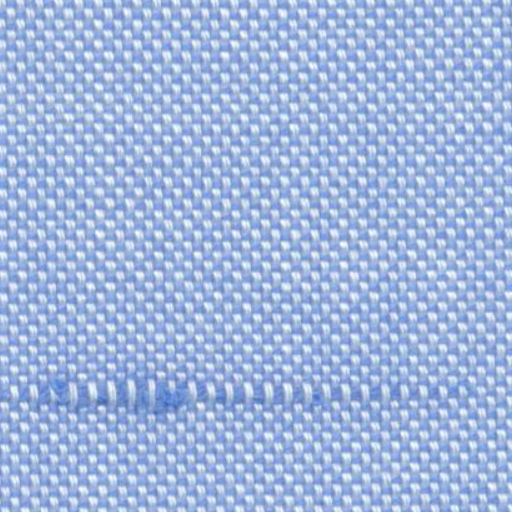DaiSha: (4, 366, 464, 426)
